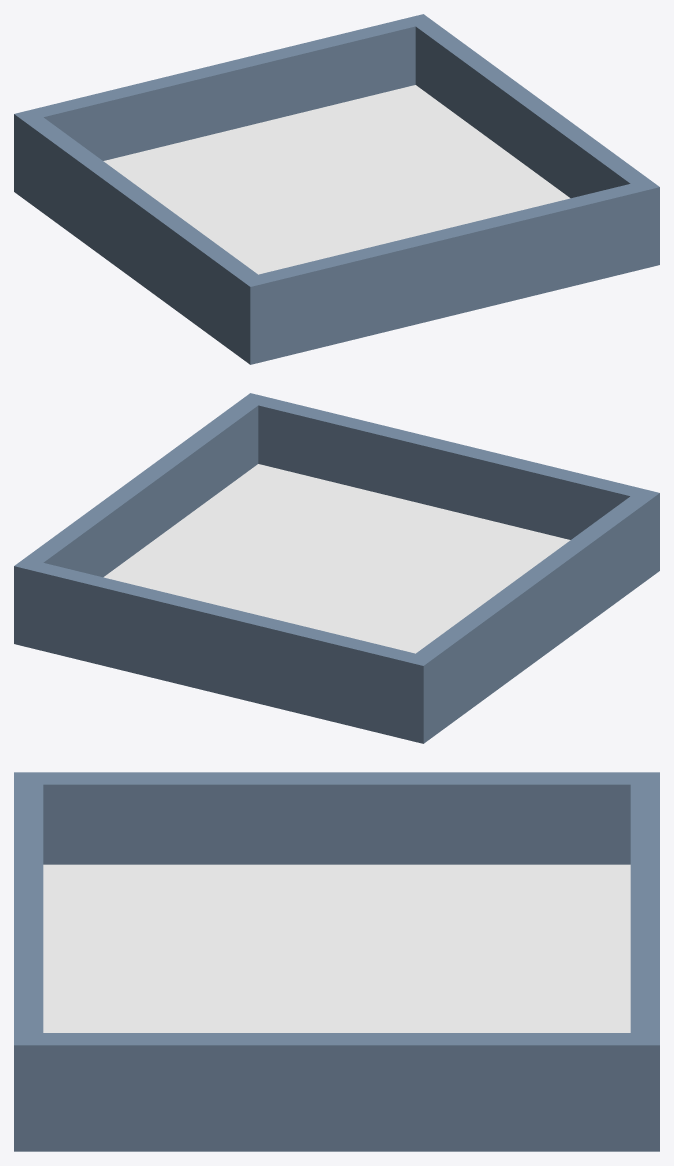
The model's file is background_20x20.fbx.
3 views of the same model, one above another, from view 1: azimuth 30°, elevation 25°; view 2: azimuth 150°, elevation 25°; view 3: azimuth 270°, elevation 25° (orthographic). The views are drawn at different scales.
Visible parts, largest first — view 1: background_20x20; view 2: background_20x20; view 3: background_20x20.
Boxes of the visible parts, <box> form: background_20x20: <box>14,14,659,364</box>; background_20x20: <box>14,393,659,743</box>; background_20x20: <box>14,772,659,1151</box>.
Bounding box in the file's own units: 22 × 4 × 22.
